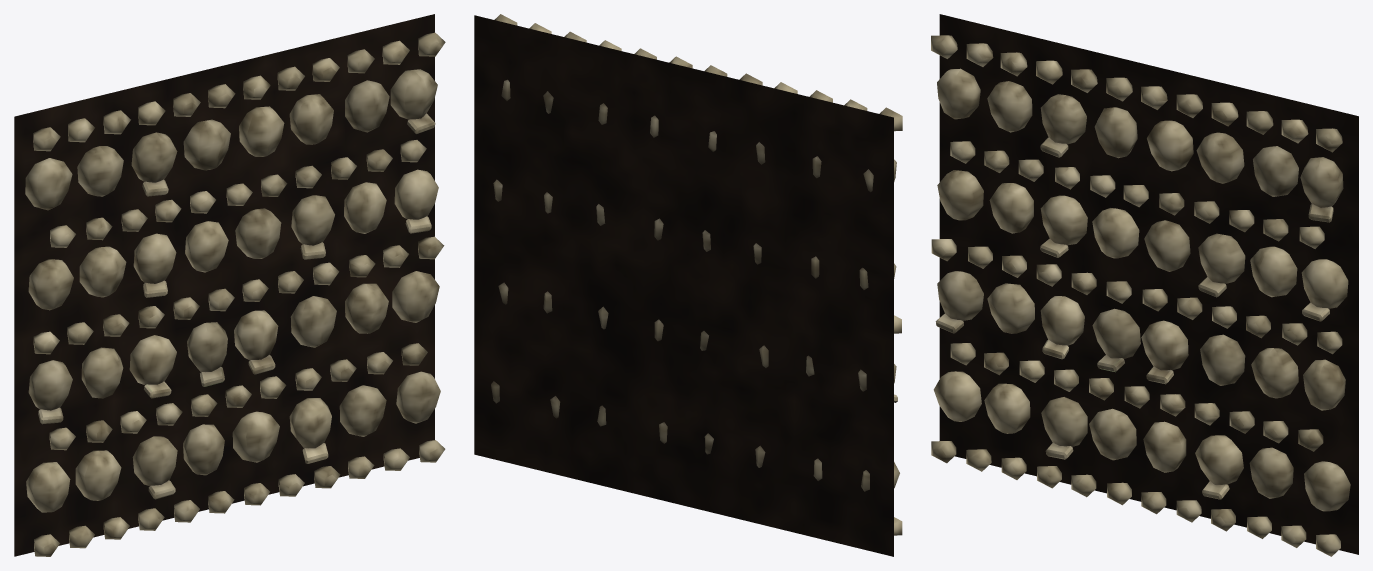
The model's file is Ossuary_SkullWall.fbx.
3 renders of one model, left to right at view 1: azimuth 30°, elevation 25°; view 2: azimuth 150°, elevation 25°; view 3: azimuth 330°, elevation 25°, orthographic.
Visible parts, largest first — view 1: Ossuary_SkullWall; view 2: Ossuary_SkullWall; view 3: Ossuary_SkullWall.
Boxes of the visible parts, x1=… form: Ossuary_SkullWall: x1=14, y1=14, x2=445, y2=556; Ossuary_SkullWall: x1=474, y1=14, x2=902, y2=556; Ossuary_SkullWall: x1=931, y1=14, x2=1358, y2=556.
Size of the model in its own units: 4 by 4 by 0.3214.
